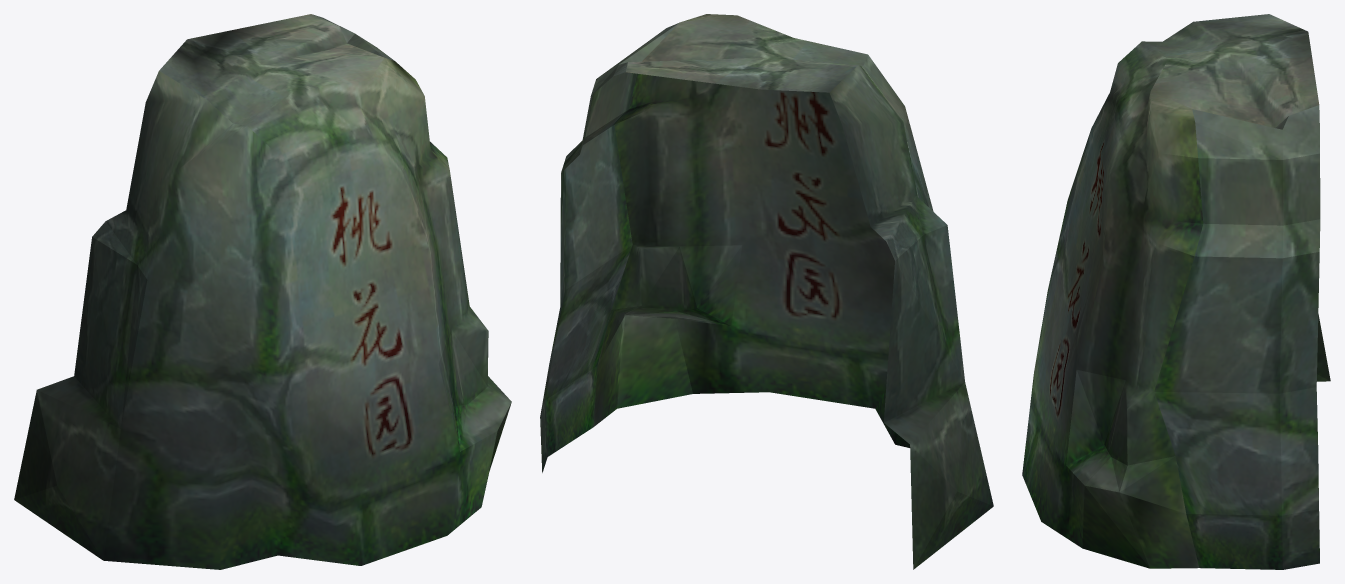
Rendered from SC102Wshikuai.FBX.
3 views of the same model, side by side, from view 1: azimuth 30°, elevation 25°; view 2: azimuth 150°, elevation 25°; view 3: azimuth 270°, elevation 25° (orthographic).
Visible parts, largest first — view 1: SC102Wshikuai; view 2: SC102Wshikuai; view 3: SC102Wshikuai.
Boxes of the visible parts, box(x1,y1,x2,y2) form: SC102Wshikuai: box(14, 14, 511, 569); SC102Wshikuai: box(540, 14, 993, 569); SC102Wshikuai: box(1022, 14, 1330, 569).
Bounding box in the file's own units: 1.08 × 1.13 × 0.7356.
